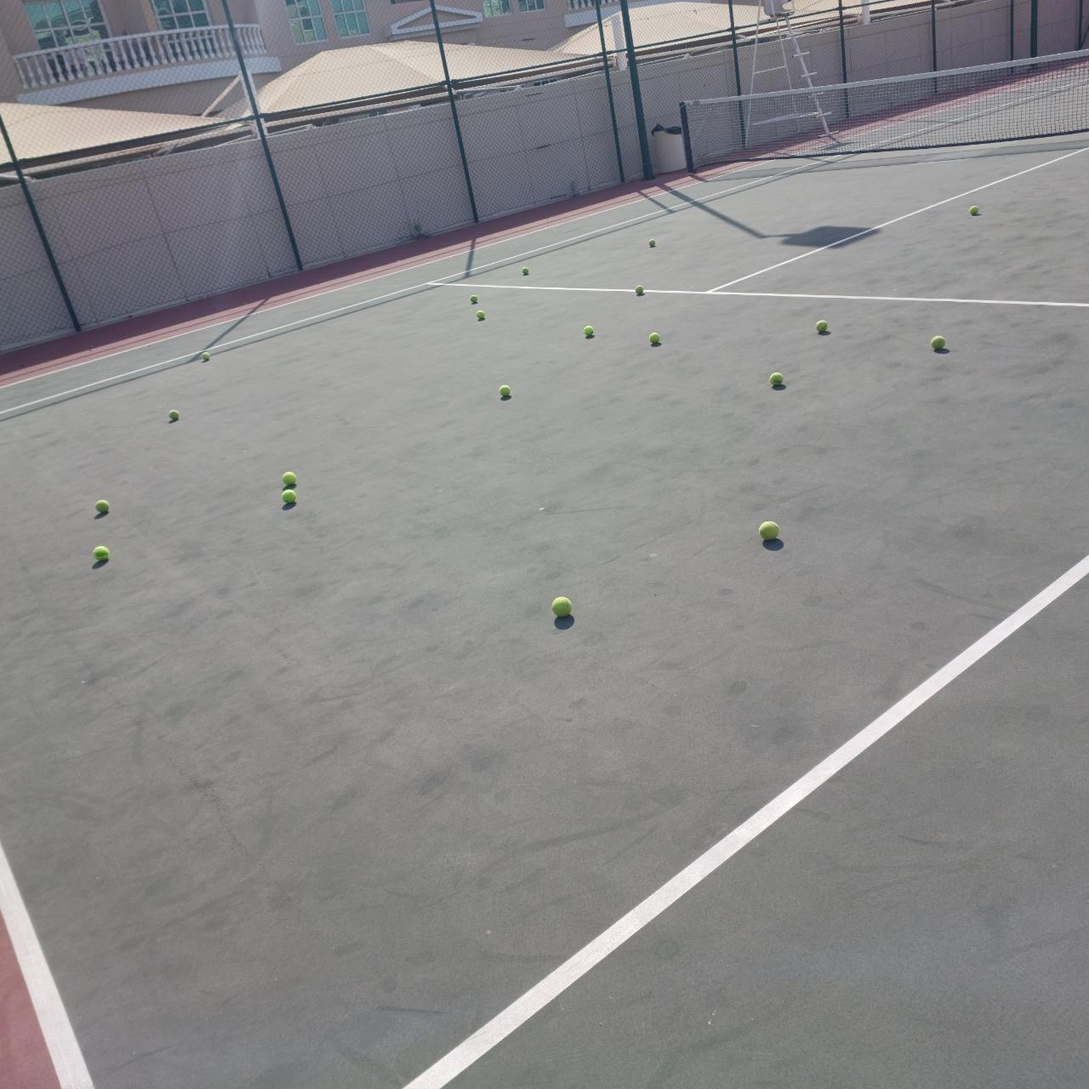tennis-ball: (550, 594, 572, 617), (757, 518, 779, 540), (92, 543, 110, 560), (280, 487, 297, 505), (767, 369, 784, 385), (281, 469, 297, 485), (930, 334, 945, 351), (94, 498, 109, 515), (814, 318, 829, 334), (647, 331, 661, 346), (498, 383, 511, 398)
